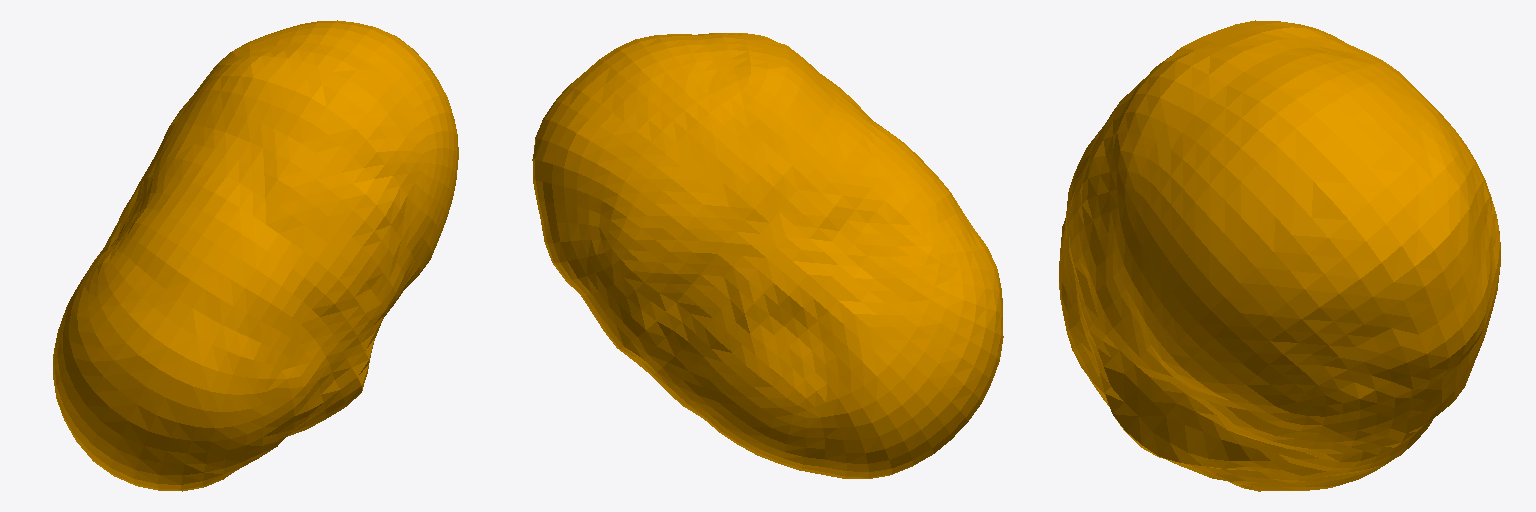
robot.urdf — rock:
<?xml version="1.0" ?>
<robot name="rock">
  <link name="rock">
    <inertial>
      <mass value="0.253"/>
      <origin rpy="0 0 0" xyz="0 0 0"/>
      <inertia ixx="0.000253" ixy="0" ixz="0" iyy="0.000253" iyz="0" izz="0.000253"/>
    </inertial>
    <collision name="rock_collision">
      <origin rpy="0 0 0" xyz="0 0 0"/>
      <geometry>
        <mesh filename="package://rocks/visual/121.dae" scale="1 1 1"/>
      </geometry>
    </collision>
    <visual name="rock_visual">
      <origin rpy="0 0 0" xyz="0 0 0"/>
      <geometry>
        <mesh filename="package://rocks/visual/121.dae" scale="1 1 1"/>
      </geometry>
    </visual>
  </link>
</robot>

--- Render facts (derived) ---
Views: 3 orthographic renders of the robot side by side, from view 1: azimuth 30°, elevation 25°; view 2: azimuth 150°, elevation 25°; view 3: azimuth 270°, elevation 25°.
Robot: rock — 1 links, 0 joints (none); root link rock; default pose: every joint at zero.
Links seen in each view (by area): view 1: rock; view 2: rock; view 3: rock.
Boxes of the visible links, x1,y1,x2,y2 form: rock: (53, 20, 458, 491); rock: (532, 33, 1003, 478); rock: (1059, 20, 1500, 491).
Size in the robot's own frame: 0.0774 by 0.0568 by 0.0724 metres.
Meshes: 1 distinct files referenced, 1 mesh visuals loaded (1 Collada DAE).